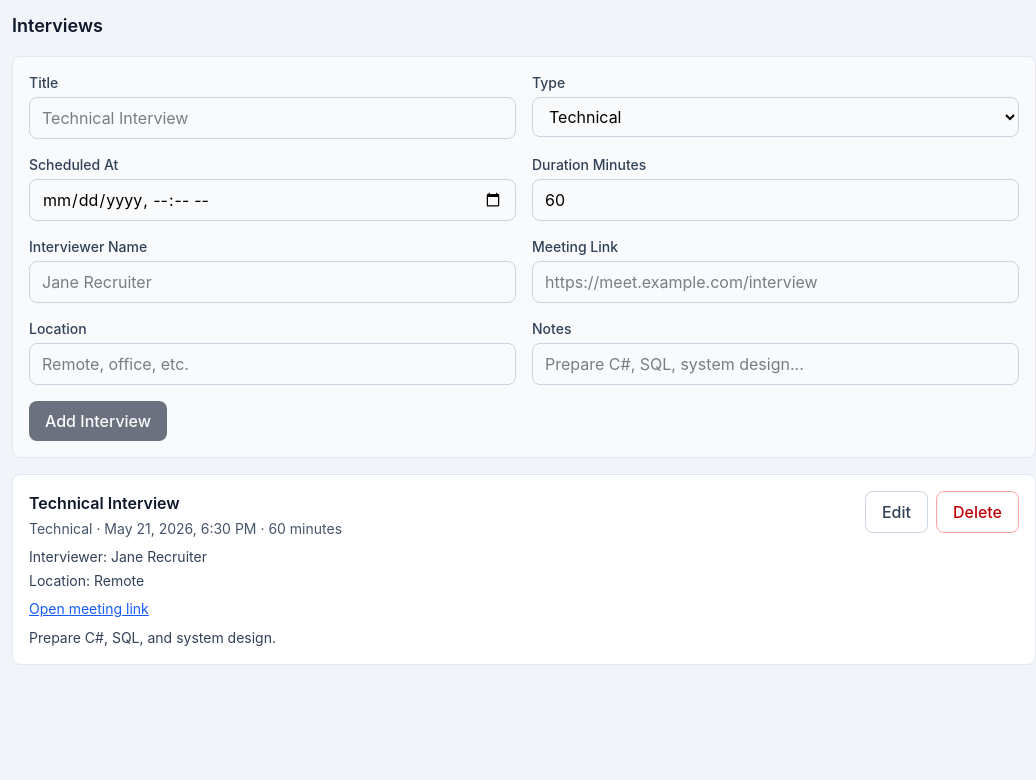
Test: InterviewsSection › click Edit fills the form with interview data
The image size is (1036, 780).
Expected: the heading "Technical Interview" is shown, [29,493,180,513]
Click the button "Edit" at (896, 512), box [865,491,928,533]
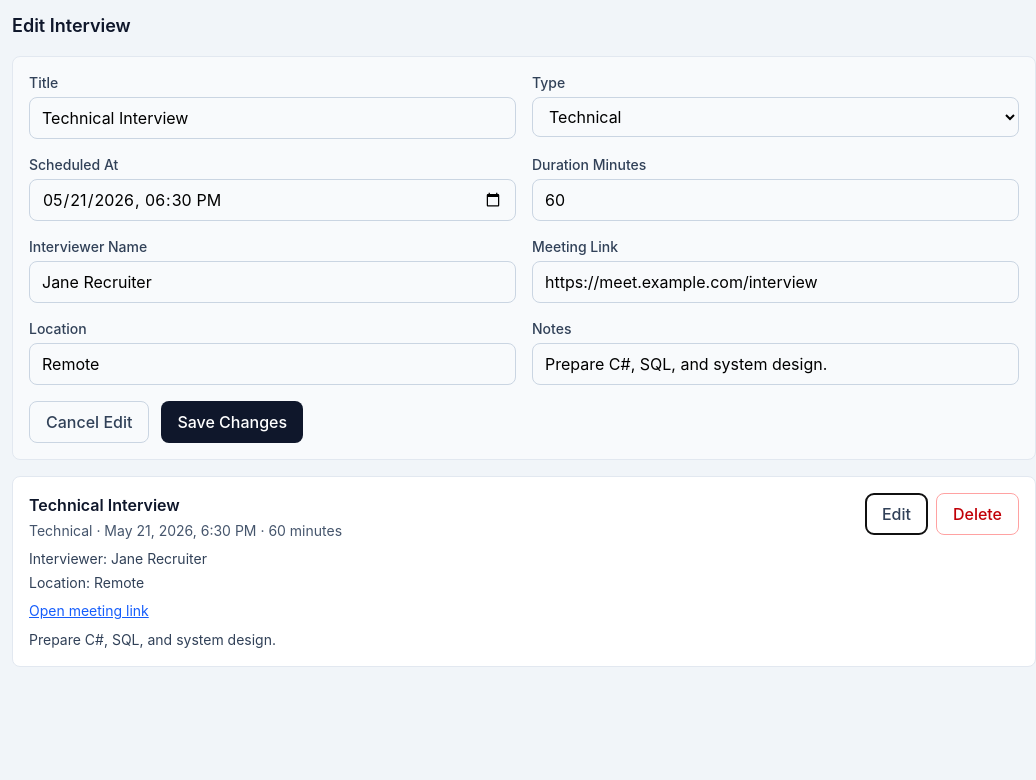
Now the field labelled "Title" holds "Technical Interview", box [29,97,516,139]
Now the field labelled "Interviewer Name" holds "Jane Recruiter", box [29,261,516,303]
Now the field labelled "Meeting Link" holds "https://meet.example.com/interview", box [532,261,1019,303]
